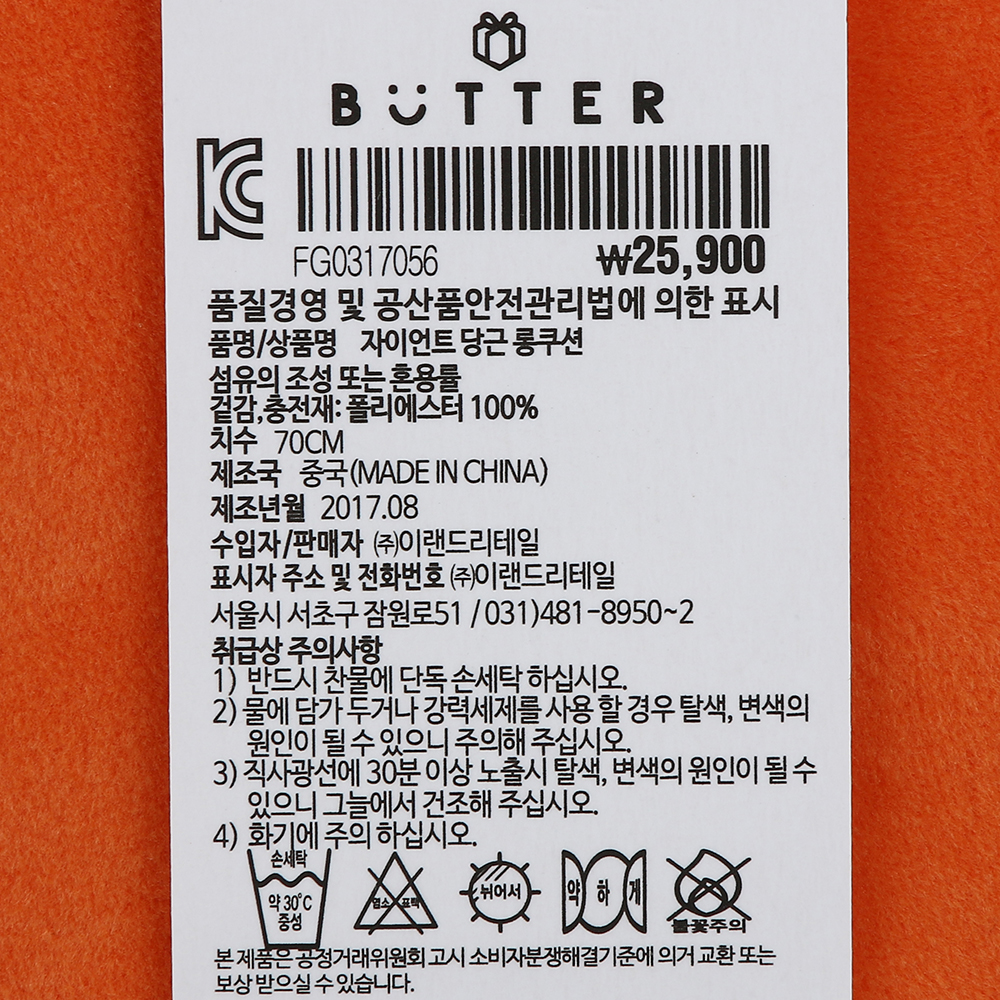KR_flat_dry_in_shade: (458, 854, 544, 933)
KR_gentle_wring: (555, 843, 653, 939)
KR_hand_wash_30_neutral: (243, 851, 337, 949)
KR_no_chlorine_bleach: (355, 854, 437, 937)
